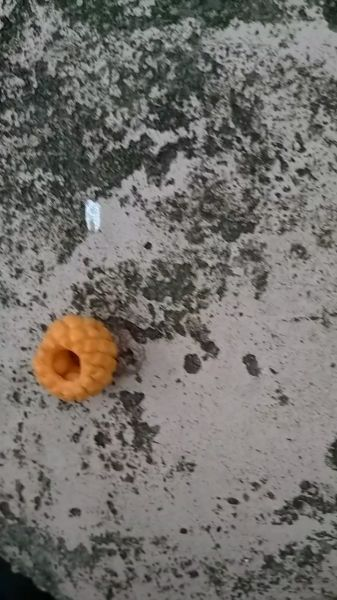eggs: (27, 305, 120, 404)
